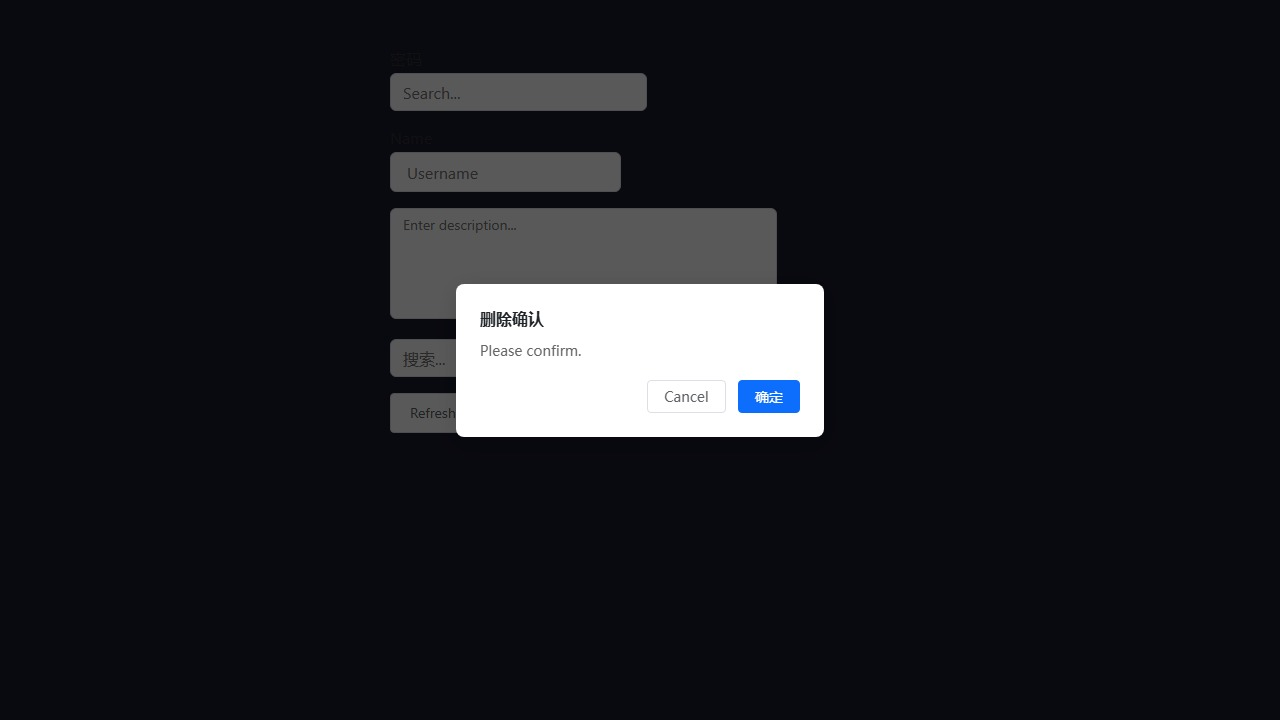button: (390, 393, 476, 433), (647, 380, 726, 412), (738, 380, 800, 412)
input: (390, 73, 647, 111), (390, 152, 621, 192), (390, 339, 511, 377)
modal: (0, 0, 1280, 720)
textarea: (390, 208, 777, 319)
